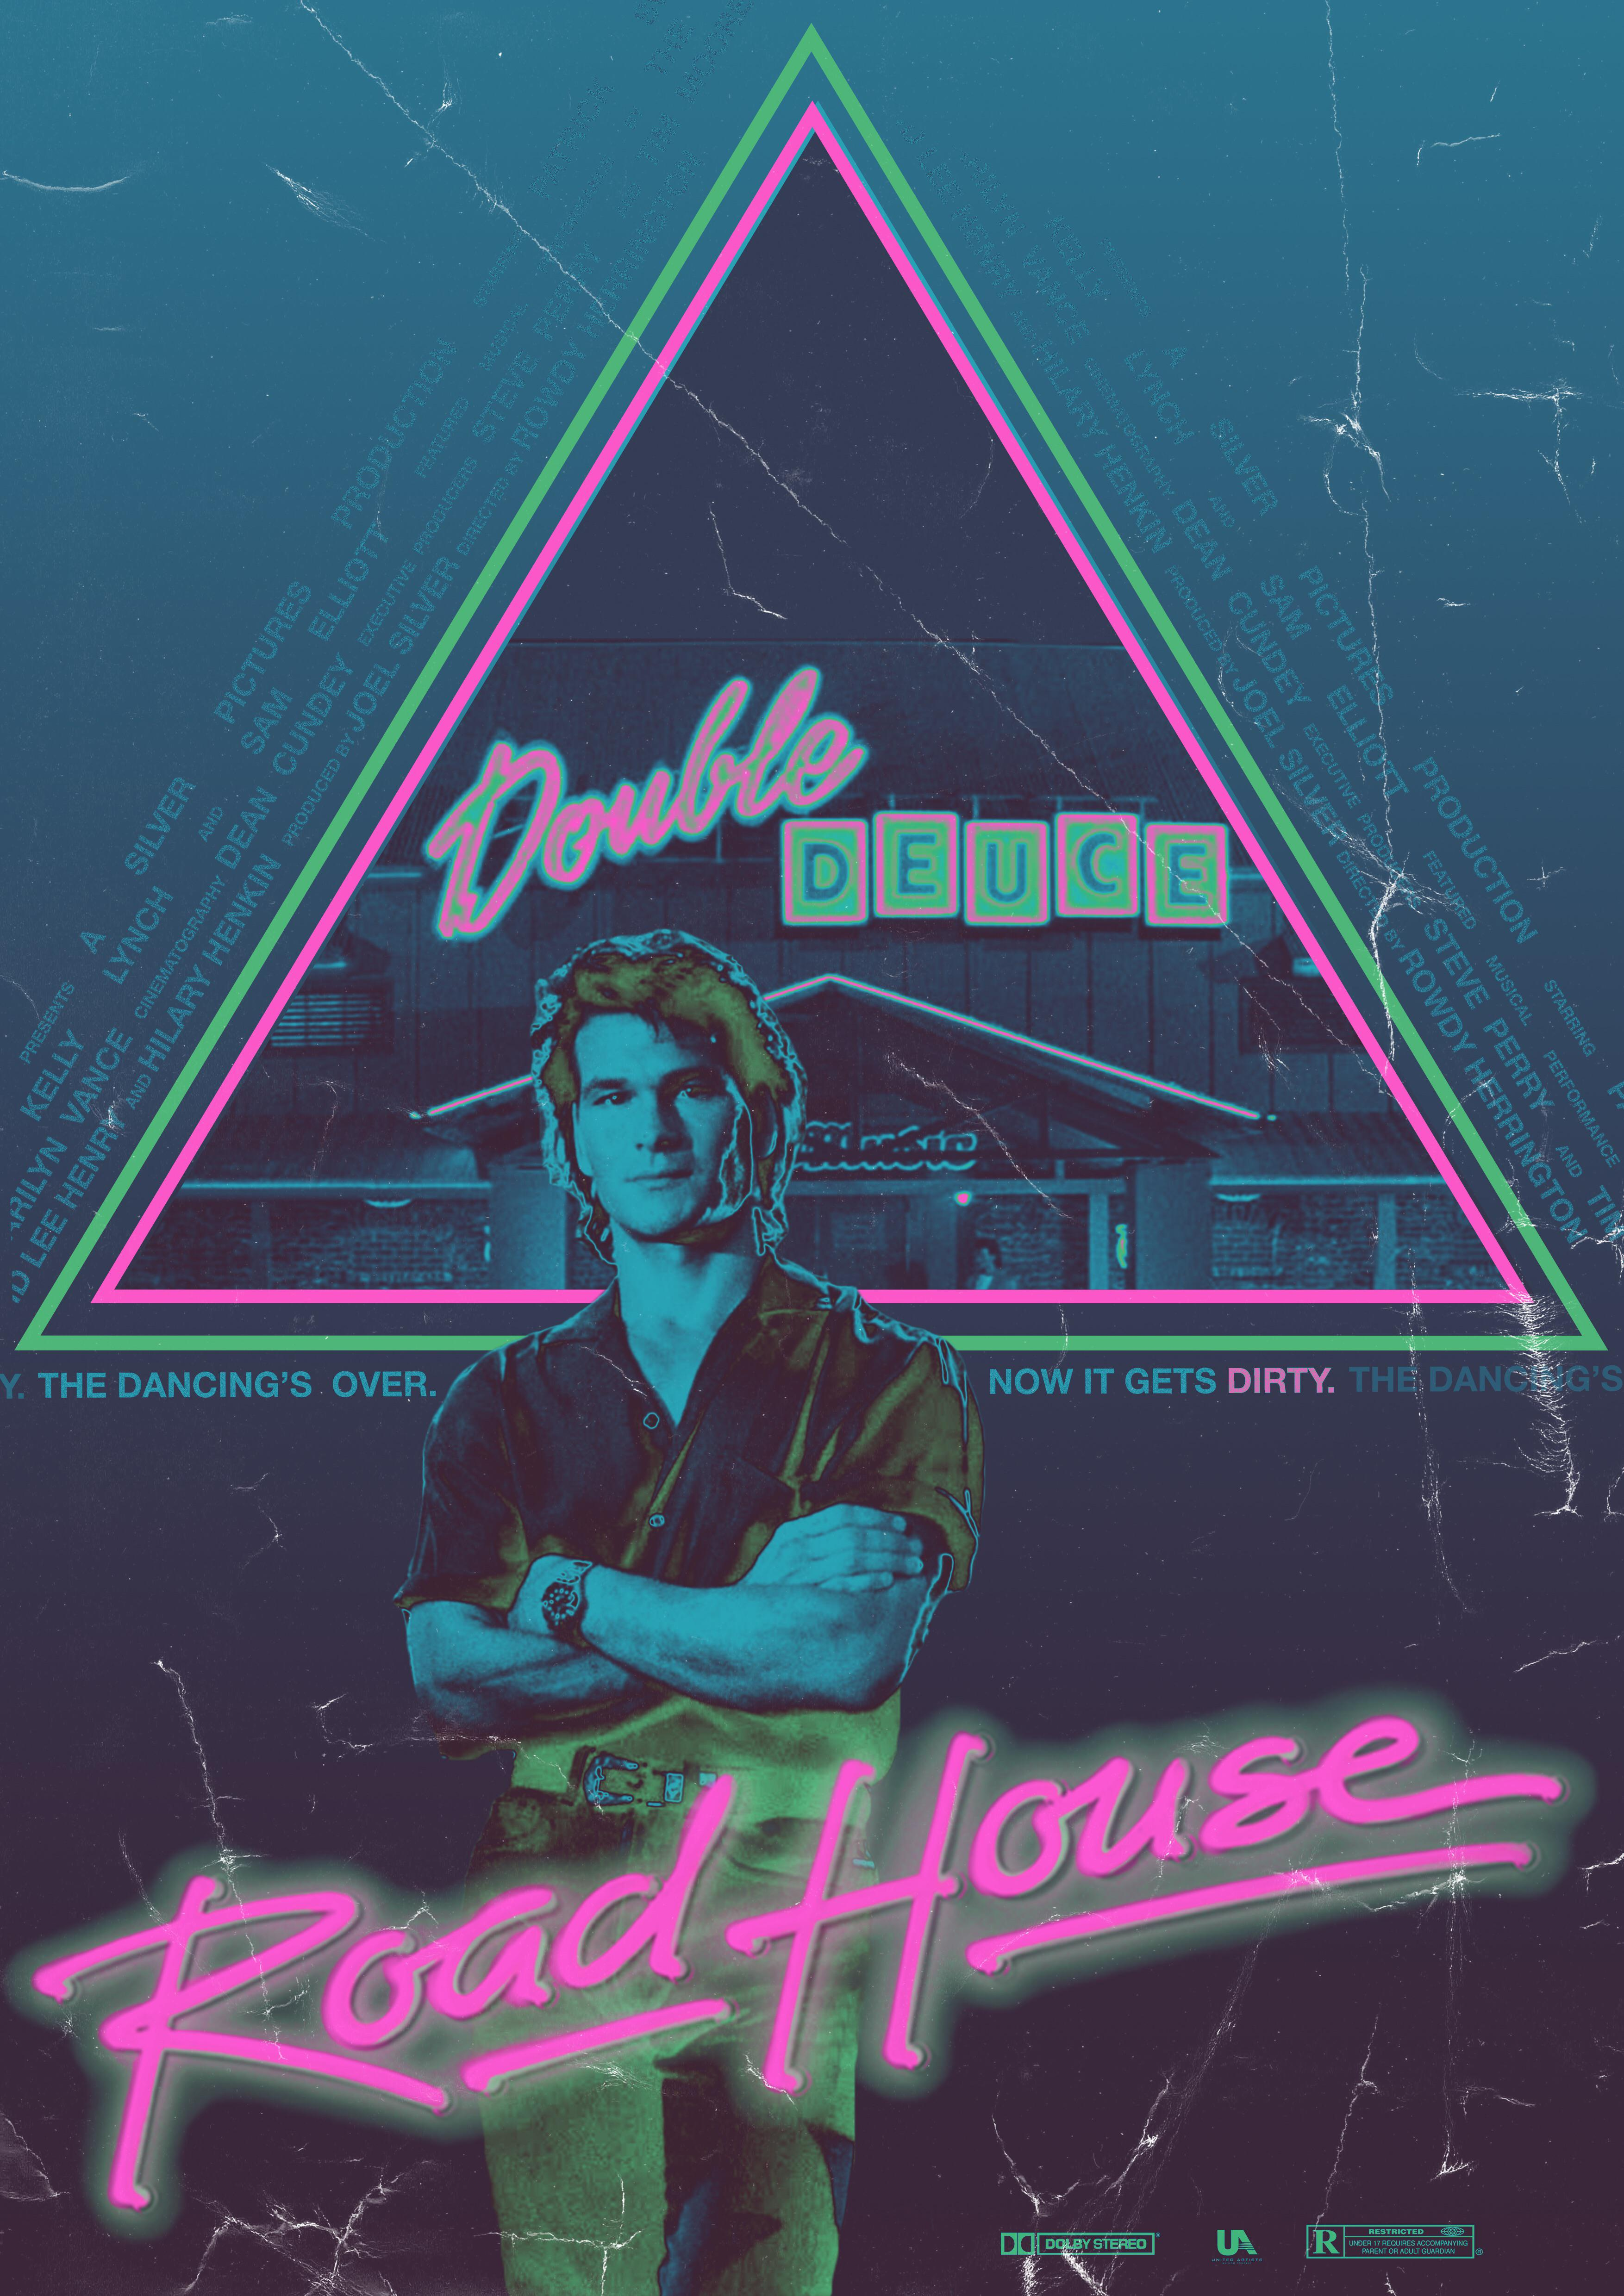poster: (5, 30, 1603, 2278)
